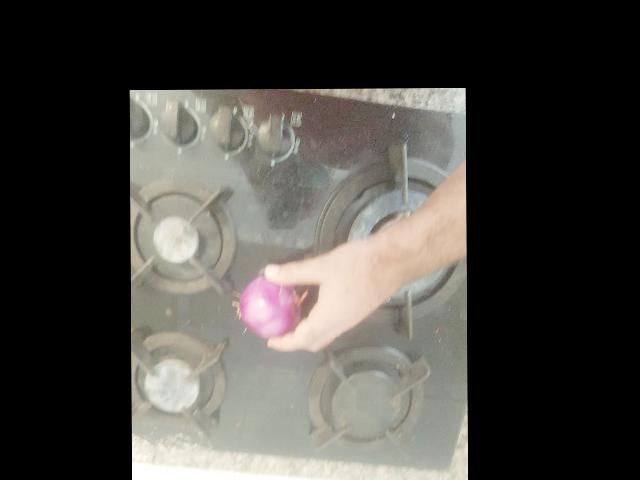onion: (241, 270, 307, 338)
